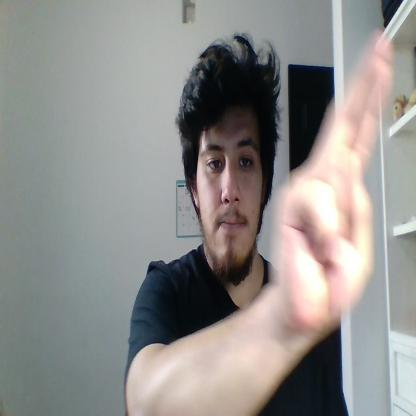R: (276, 29, 392, 332)
